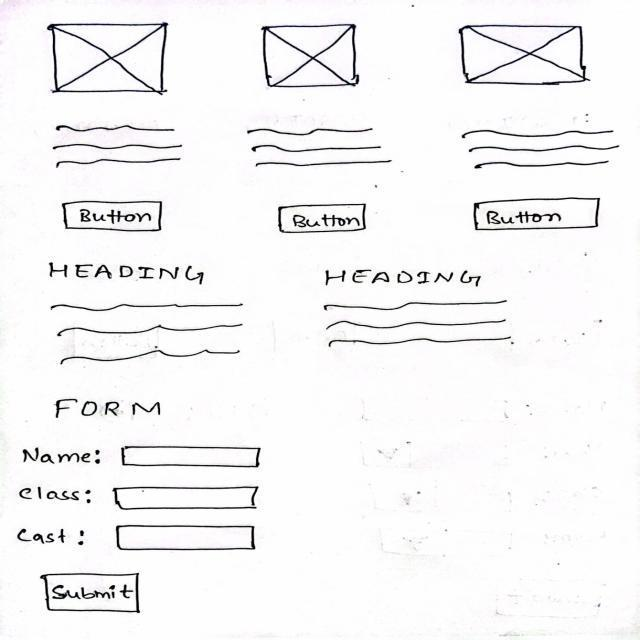textbox: (115, 519, 270, 559), (110, 482, 266, 515), (115, 441, 273, 472)
